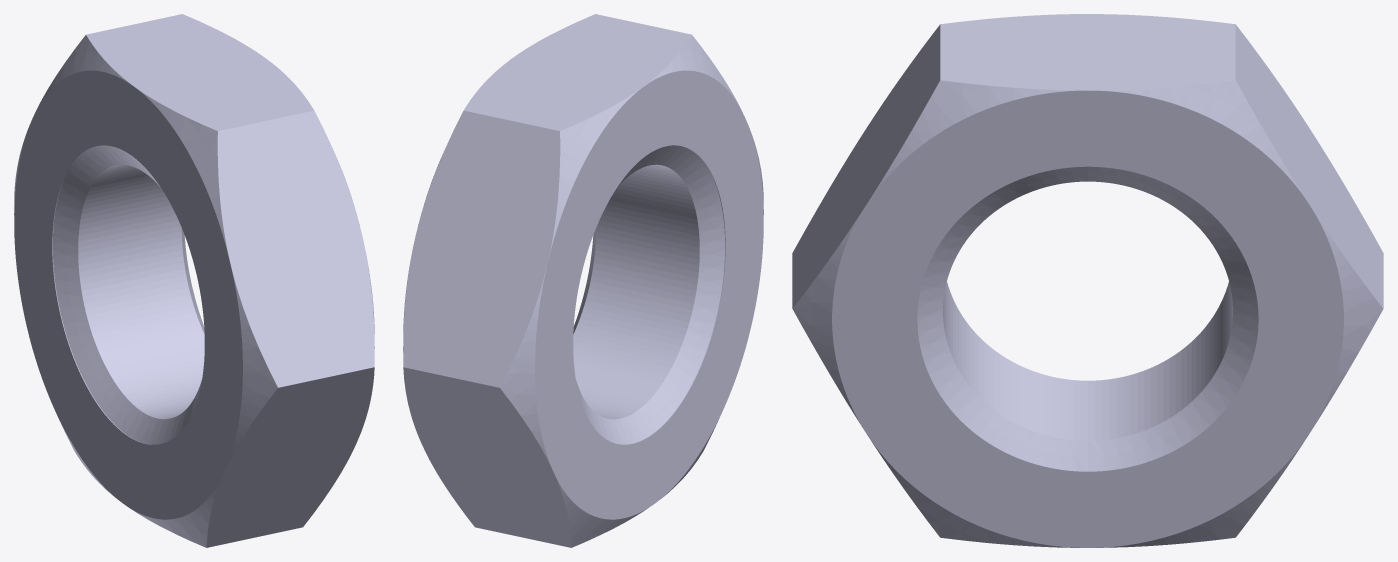
Rendered from hexnutjam_am_b18_2_4_5mhexjamnutm12x1_75dn.dae.
The picture shows the model from 3 angles, left to right: view 1: azimuth 30°, elevation 25°; view 2: azimuth 150°, elevation 25°; view 3: azimuth 270°, elevation 25°; orthographic projection. The views are drawn at different scales.
Parts seen in each view (by area): view 1: node0; view 2: node0; view 3: node0.
Boxes of the visible parts, x1,y1,x2,y2 form: node0: (14, 14, 374, 547); node0: (403, 14, 763, 547); node0: (792, 14, 1383, 547).
Bounding box in the file's own units: 0.00651 × 0.0208 × 0.0182.
